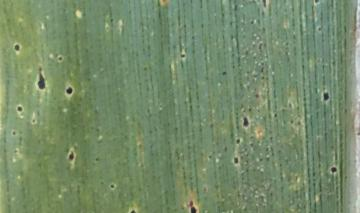tarspot: (34, 66, 48, 92), (320, 89, 333, 104), (240, 114, 251, 129), (186, 203, 201, 213), (328, 164, 340, 176), (230, 154, 241, 166), (54, 53, 66, 64), (64, 84, 73, 98), (66, 150, 76, 162), (11, 42, 23, 52), (125, 206, 141, 213), (14, 104, 25, 114), (259, 1, 269, 12), (218, 69, 230, 78), (233, 136, 244, 145), (179, 50, 187, 62), (272, 109, 279, 122), (9, 128, 18, 138), (108, 182, 117, 191), (312, 1, 323, 6)
